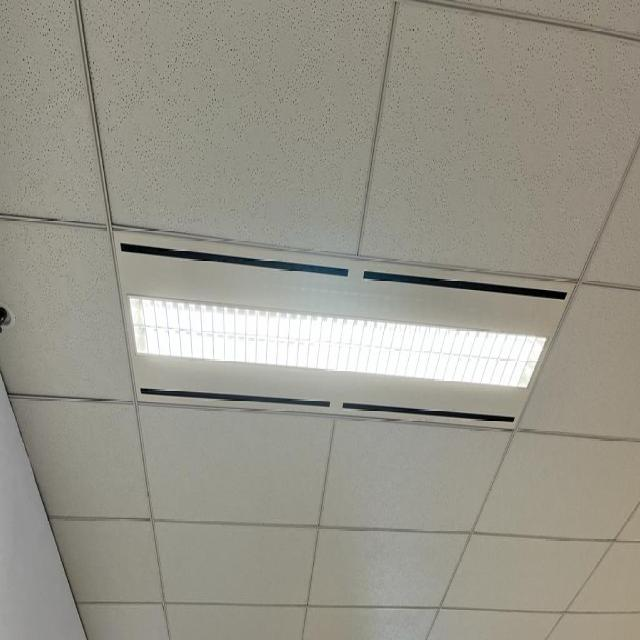Light-Opened: (108, 231, 576, 433)
